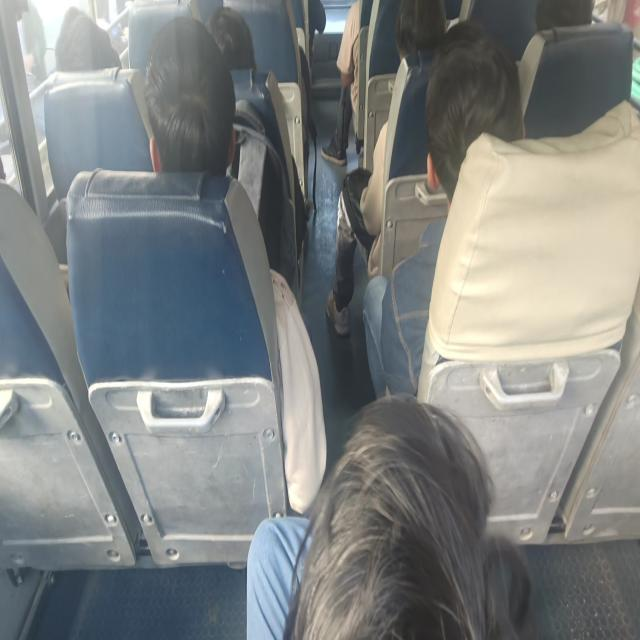person: (285, 406, 524, 640), (433, 41, 529, 200), (149, 18, 238, 183), (54, 0, 118, 83), (204, 0, 263, 77), (391, 0, 454, 68), (536, 0, 606, 49)
